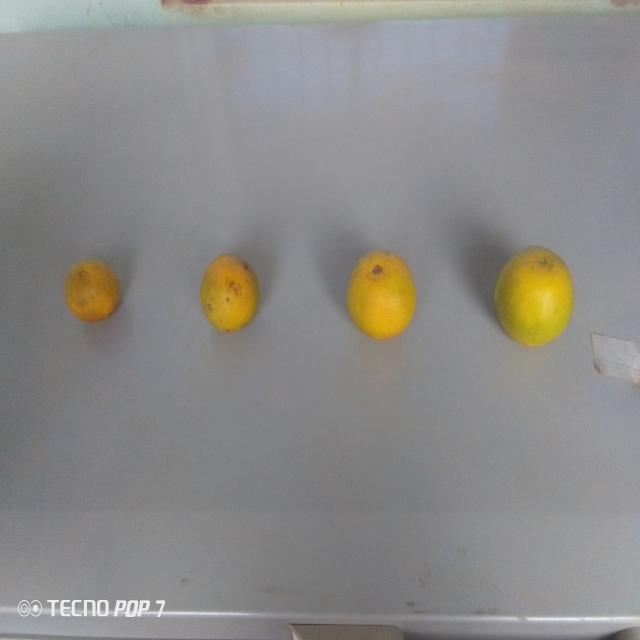Ripe orange: (492, 239, 584, 349), (343, 238, 420, 355), (196, 250, 265, 345), (59, 253, 130, 330)
